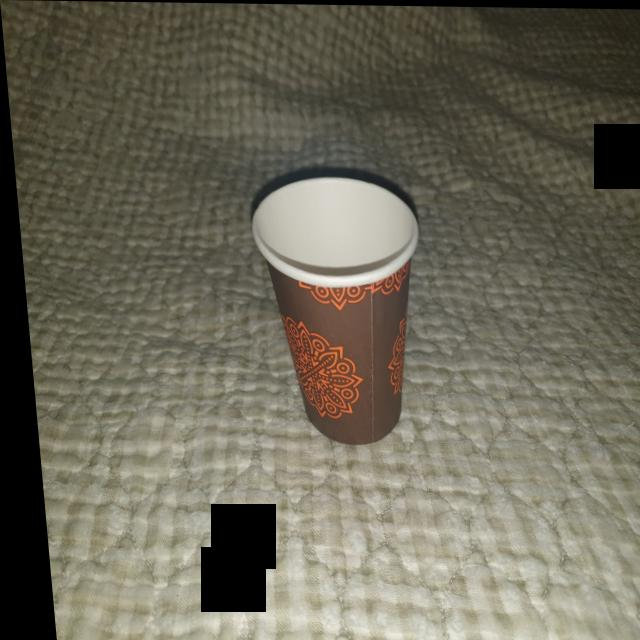cups: (237, 167, 436, 453)
